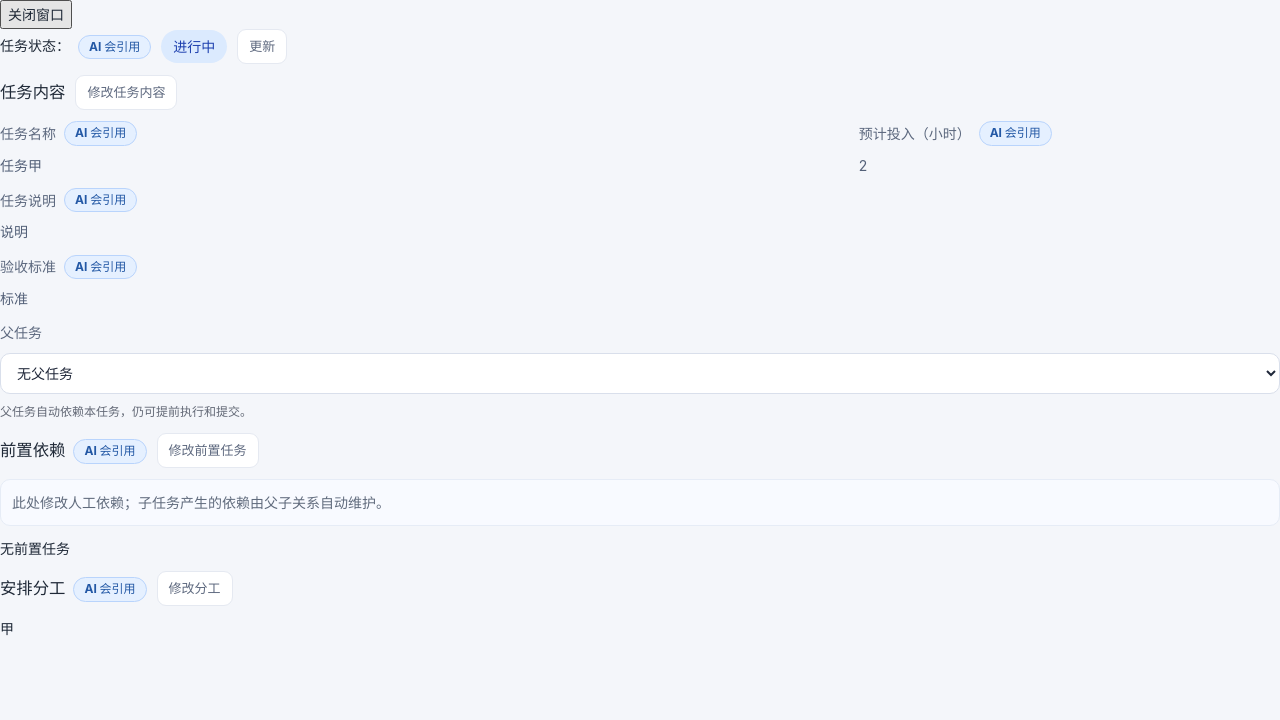
Test case: does not convert inherited child dependencies into manually selected dependencies
Click the button "修改前置任务": (208, 450) [157,433,259,468]
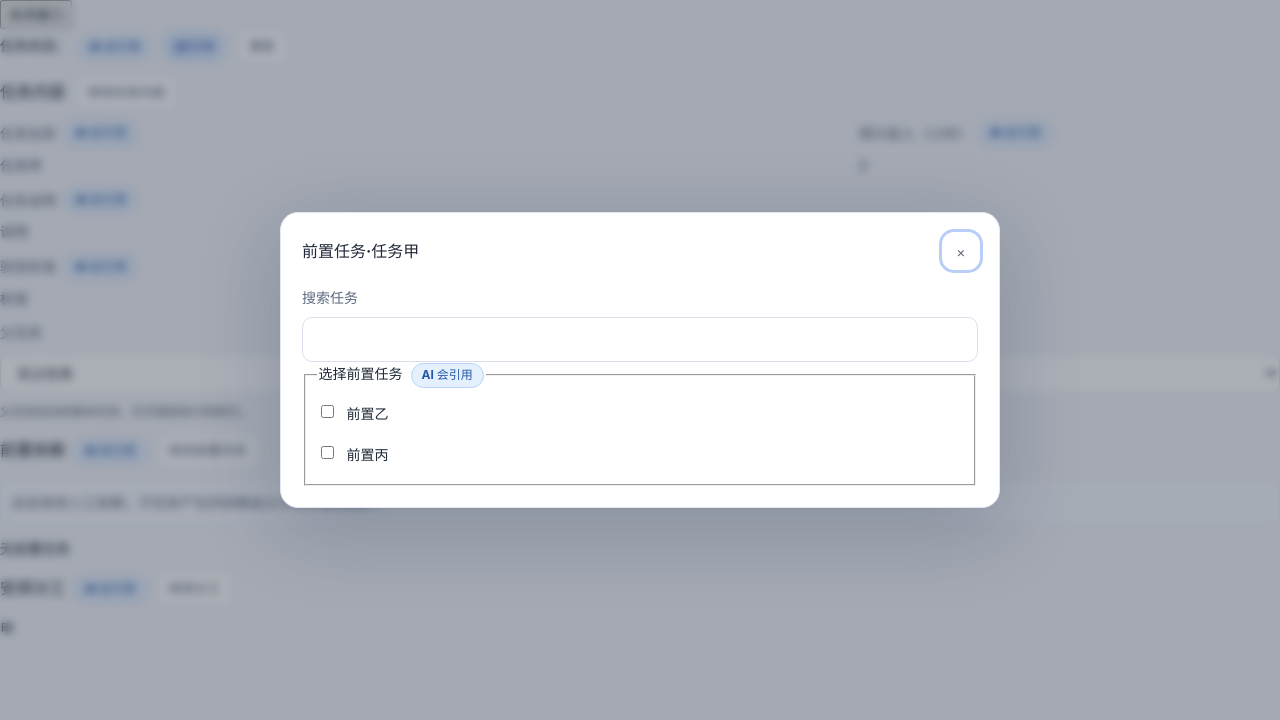
Now the checkbox labelled "前置乙" is not checked, box [320,405,334,418]
